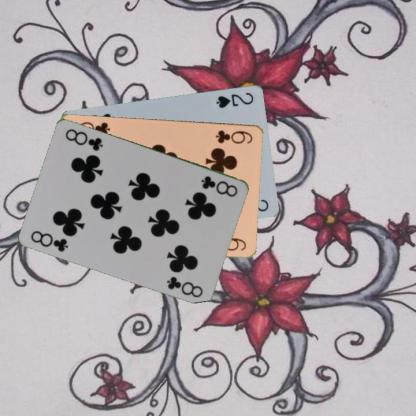2s: (214, 90, 255, 109)
6c: (213, 127, 254, 145)
8c: (28, 228, 70, 253), (199, 173, 239, 198)
